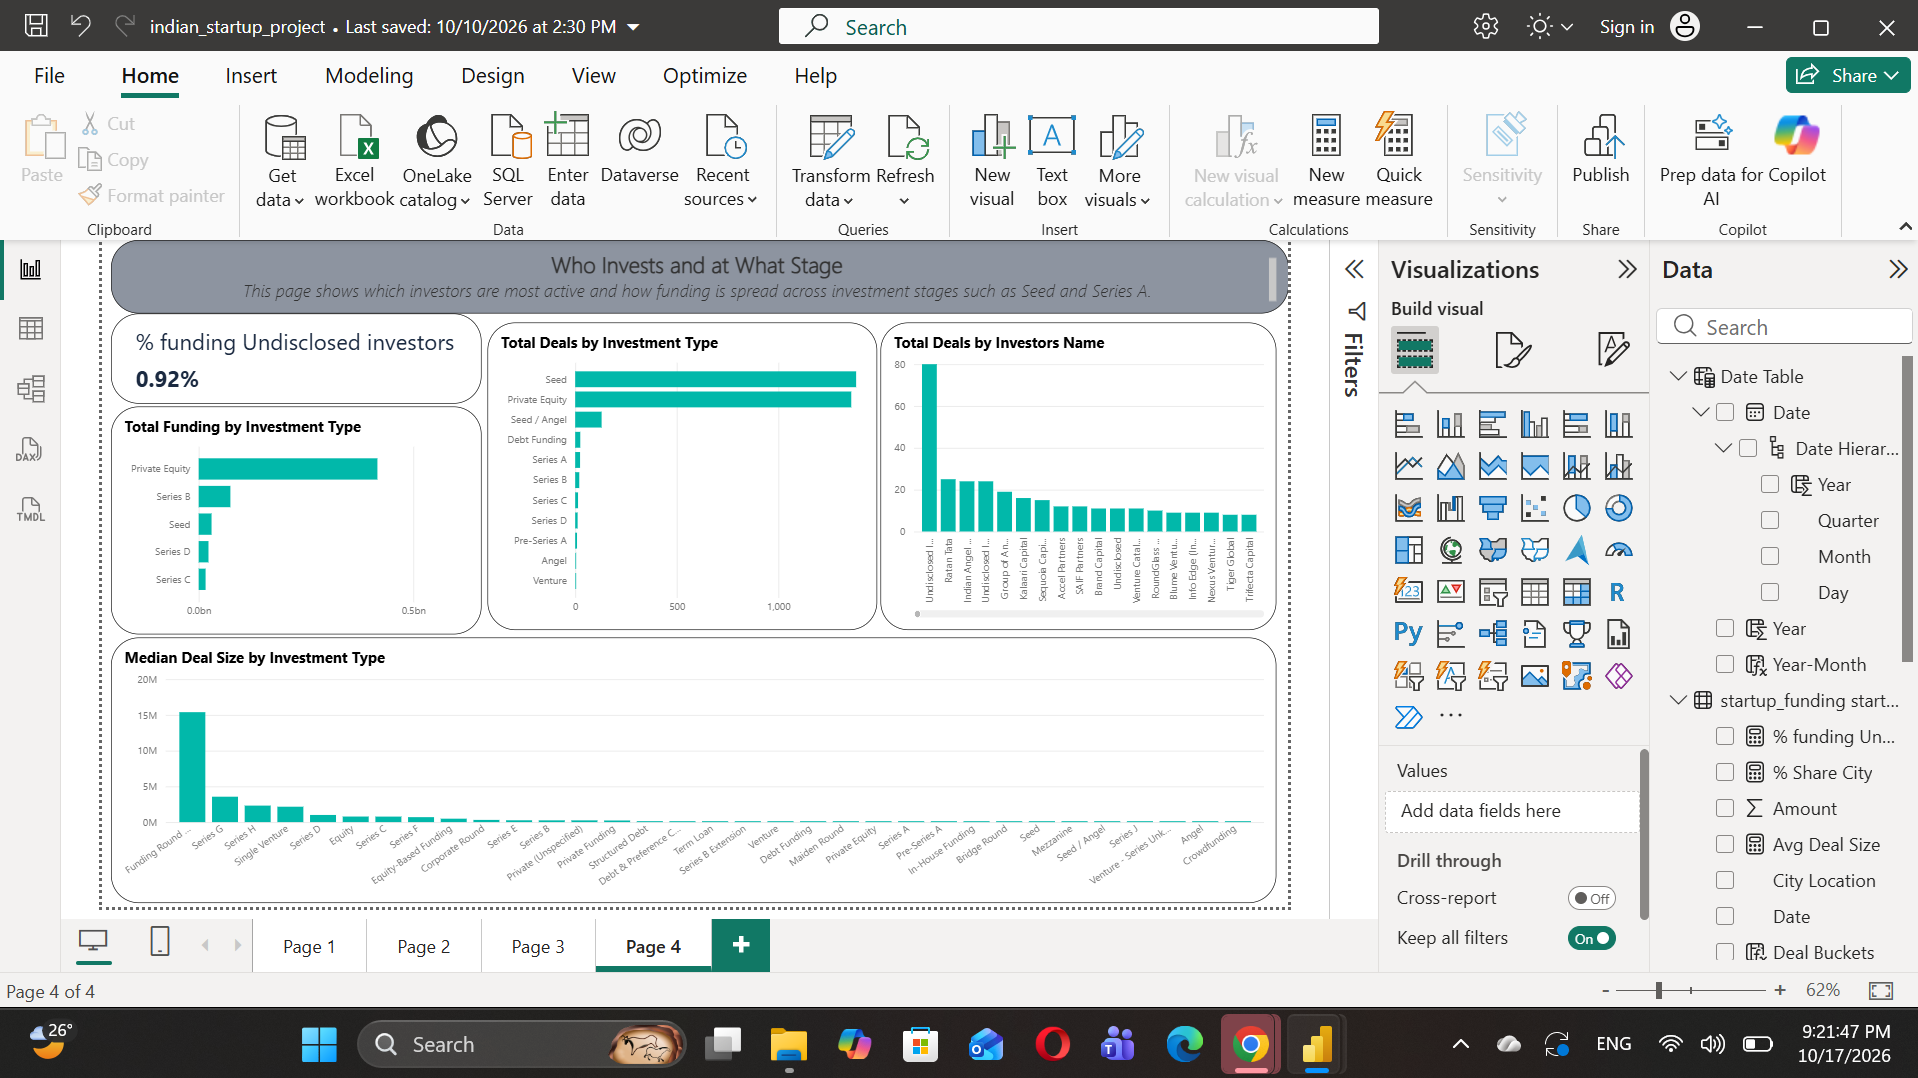

What the dashboard file says about the page in this screenshot:
{"tool":"powerbi","page":{"name":"Page 4","canvas":[1280,720],"ordinal":3},"visuals":[{"type":"textbox","box":[9.7,0,1271.1,79.3],"z":0},{"type":"cardVisual","fields":{"Data":["startup_funding startup_funding.% funding Undisclosed investors"]},"box":[9.7,79.3,399.9,97.2],"z":1},{"type":"columnChart","fields":{"Category":["startup_funding startup_funding.Investment Type"],"Y":["startup_funding startup_funding.Median Deal Size"]},"box":[9.7,429.1,1258.1,286.6],"z":2},{"type":"barChart","fields":{"Category":["startup_funding startup_funding.Investment Type"],"Y":["startup_funding startup_funding.Total Funding"]},"box":[9.7,179.7,399.9,246.1],"z":3},{"type":"barChart","fields":{"Category":["startup_funding startup_funding.Investment Type"],"Y":["startup_funding startup_funding.Total Deals"]},"box":[416.1,89.1,421,331.9],"z":4},{"type":"columnChart","fields":{"Category":["startup_funding startup_funding.Investors Name"],"Y":["startup_funding startup_funding.Total Deals"]},"box":[840.4,89.1,427.5,331.9],"z":5}]}

Visuals, with their boxes on the page's 1280x720 design canvas (x1, y1, x2, y2). These are canvas units, not pixel positions in the 1918x1078 screenshot, which may show the page scaled, cropped or inside an application window:
textbox: l=10, t=0, r=1281, b=79
cardVisual - startup_funding startup_funding.% funding Undisclosed investors: l=10, t=79, r=410, b=176
columnChart - startup_funding startup_funding.Investment Type x startup_funding startup_funding.Median Deal Size: l=10, t=429, r=1268, b=716
barChart - startup_funding startup_funding.Investment Type x startup_funding startup_funding.Total Funding: l=10, t=180, r=410, b=426
barChart - startup_funding startup_funding.Investment Type x startup_funding startup_funding.Total Deals: l=416, t=89, r=837, b=421
columnChart - startup_funding startup_funding.Investors Name x startup_funding startup_funding.Total Deals: l=840, t=89, r=1268, b=421
